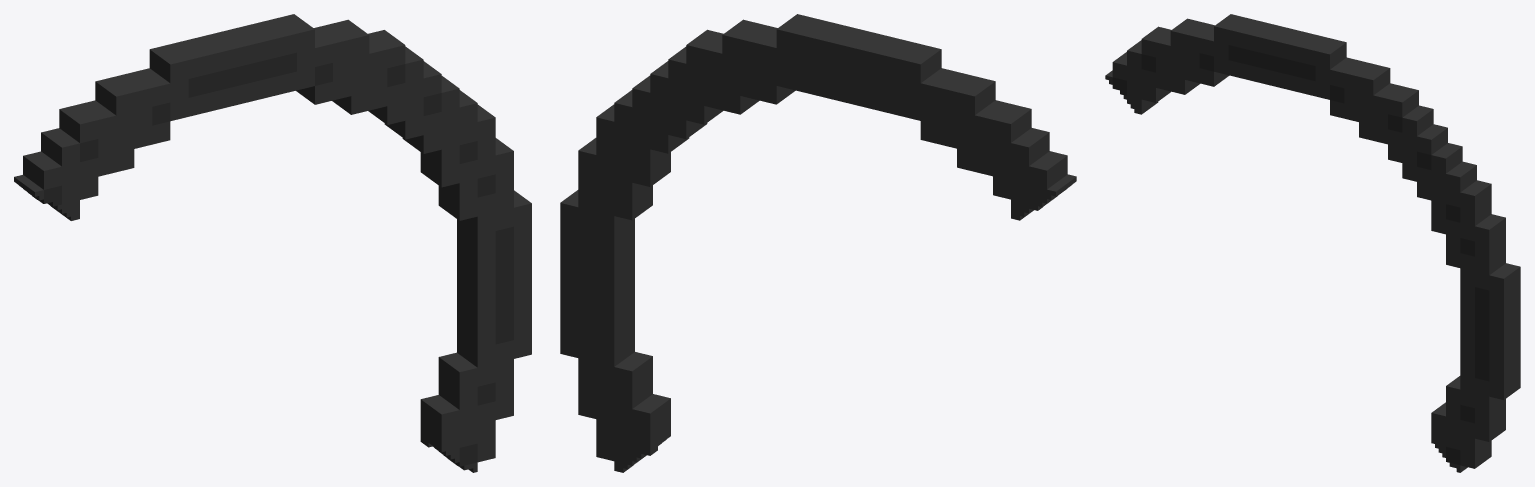
The model's file is portal_broken-0.obj.
3 views of the same model, side by side, from view 1: azimuth 30°, elevation 25°; view 2: azimuth 150°, elevation 25°; view 3: azimuth 330°, elevation 25° (orthographic). The views are drawn at different scales.
Size of the model in its own units: 11 by 10.2 by 0.8.
1 material, 1 textured.
